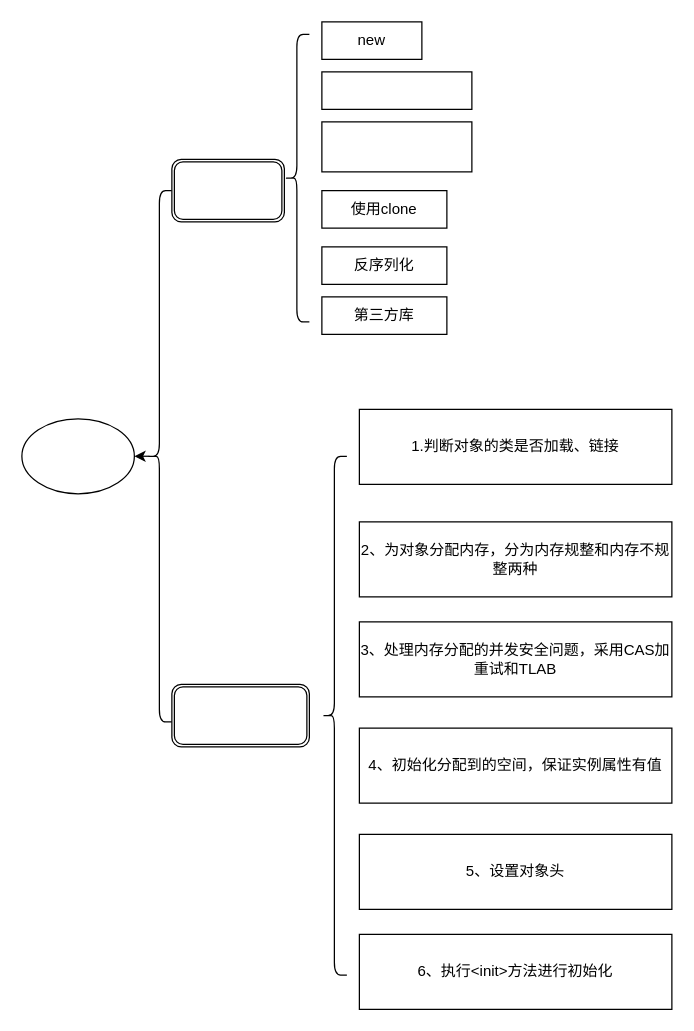
Some shapes in this 694 by 1031 pixel diagram are drawn without their labels. Each missing label, with the centre of its shape:
Class.newInstance: point (396, 90)
Constructor的newInstance: point (396, 146)
创建对象的方式: point (227, 190)
创建对象的步骤: point (240, 715)
对象实例化: point (77, 456)
